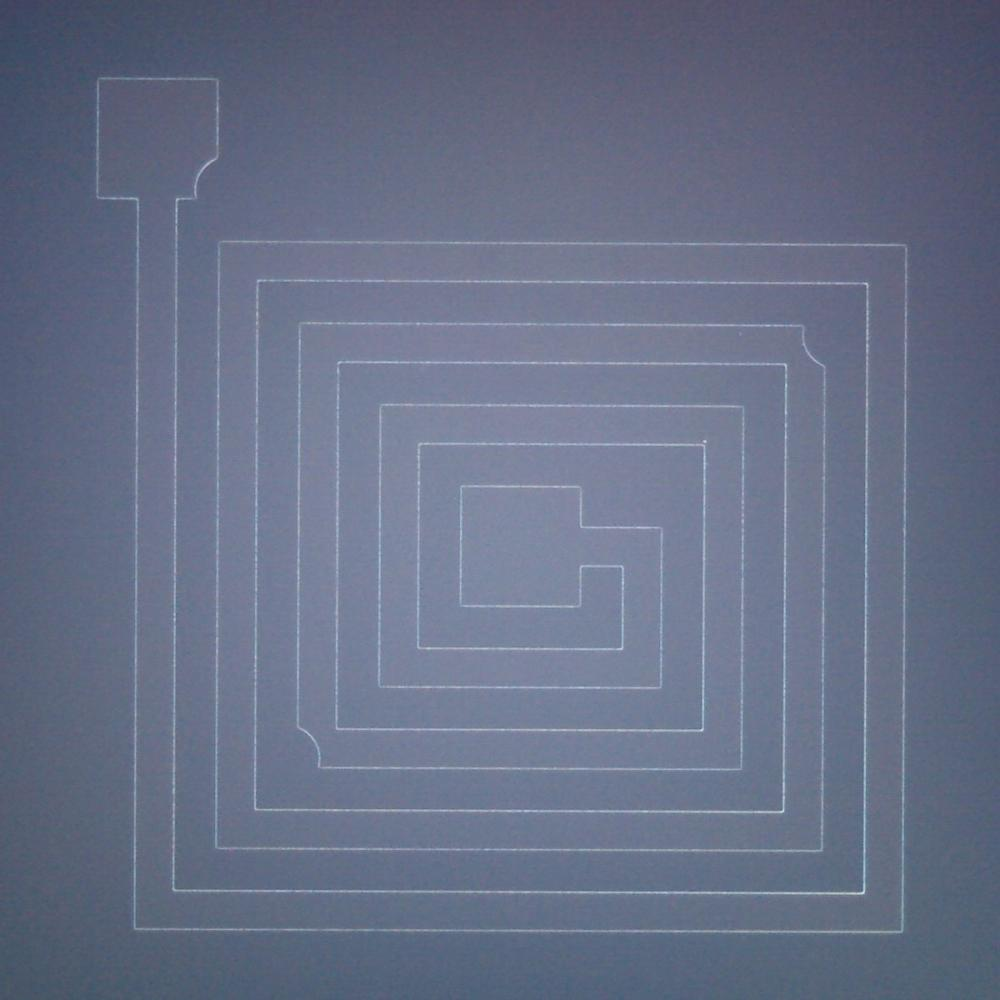curve circuit: (182, 142, 230, 208), (289, 716, 332, 784), (794, 314, 837, 375)
